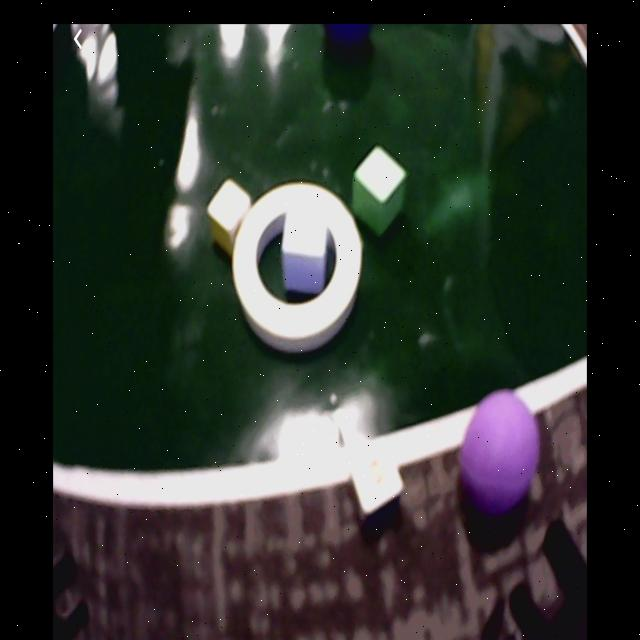ball: (461, 391, 540, 512), (325, 22, 373, 41)
